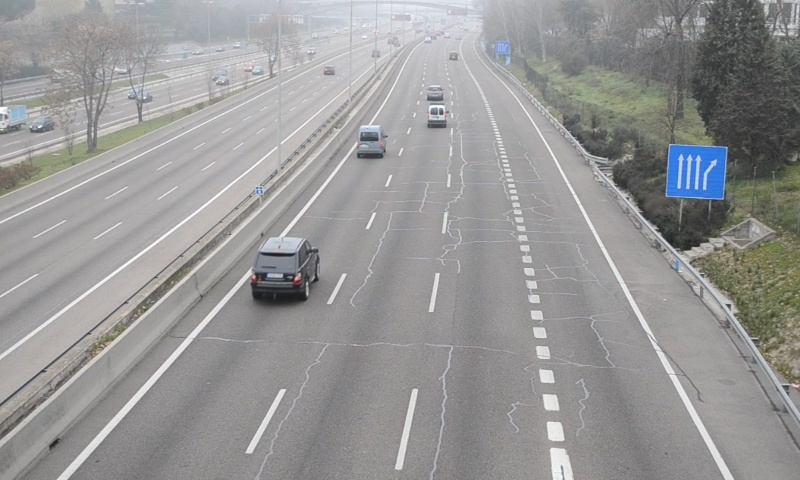car: (250, 236, 320, 296)
van: (357, 124, 385, 157), (426, 102, 446, 124)
